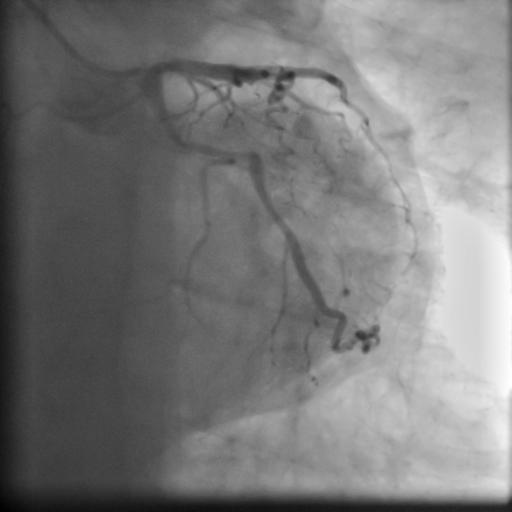Stenosis: (222, 142, 254, 168)
